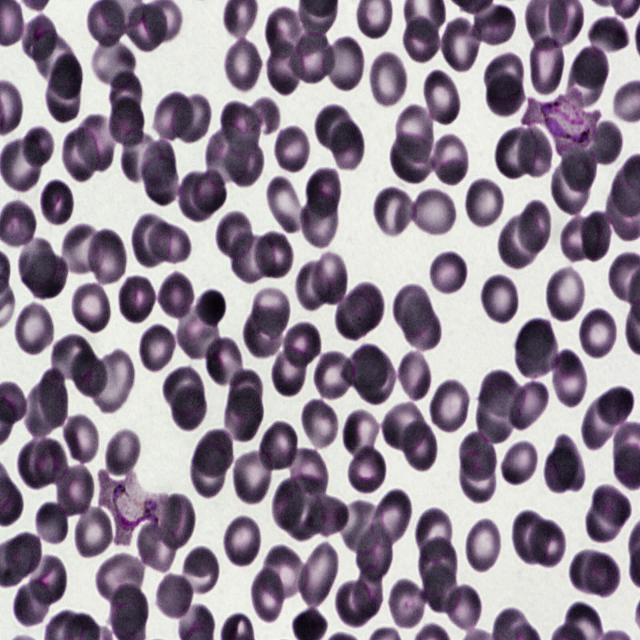red blood cell: (86, 347, 135, 416), (378, 396, 431, 455), (366, 488, 416, 550), (513, 316, 559, 381), (94, 551, 146, 608), (265, 5, 312, 68), (260, 542, 308, 603), (21, 551, 68, 613), (47, 332, 100, 386), (296, 540, 340, 605), (564, 46, 608, 110), (90, 36, 140, 90), (527, 31, 567, 98), (441, 13, 484, 74), (83, 226, 126, 287), (475, 385, 518, 446), (263, 37, 306, 98), (388, 135, 438, 186), (174, 307, 220, 362), (498, 213, 542, 270), (256, 419, 302, 473), (264, 174, 306, 233), (250, 562, 289, 625), (395, 421, 441, 474), (322, 35, 364, 93), (232, 448, 274, 506), (550, 160, 592, 218), (292, 28, 334, 86), (503, 379, 548, 433), (124, 0, 168, 55), (409, 188, 457, 238), (550, 347, 588, 410), (222, 388, 264, 445), (367, 51, 408, 109), (417, 534, 458, 592), (354, 346, 395, 404), (70, 504, 114, 558), (60, 222, 104, 276), (429, 378, 471, 434), (579, 306, 621, 362), (478, 369, 526, 418), (340, 342, 387, 392), (372, 186, 416, 239), (546, 265, 586, 323), (223, 36, 263, 94), (271, 340, 311, 398), (355, 525, 395, 583), (428, 132, 470, 187), (207, 124, 246, 183), (492, 126, 538, 176), (338, 500, 383, 551), (414, 507, 454, 564), (299, 194, 339, 251), (241, 308, 284, 361), (250, 228, 293, 281), (1, 138, 43, 192), (421, 69, 460, 127), (581, 394, 620, 452), (21, 381, 62, 436), (14, 301, 54, 357), (54, 462, 94, 518), (313, 351, 356, 403), (71, 281, 112, 335), (584, 14, 632, 60), (472, 0, 520, 46), (212, 208, 252, 263), (402, 12, 442, 67), (340, 407, 380, 462), (230, 234, 274, 284), (483, 50, 524, 103), (464, 517, 502, 574), (222, 514, 262, 568), (464, 176, 504, 230), (387, 577, 427, 631), (283, 318, 323, 372), (222, 100, 262, 154), (162, 364, 206, 413), (300, 396, 339, 451), (153, 91, 195, 142), (34, 33, 76, 84), (110, 581, 150, 634), (396, 105, 433, 162), (105, 67, 144, 121), (79, 116, 118, 170), (272, 126, 314, 176), (16, 437, 54, 492), (516, 196, 552, 254), (346, 444, 386, 496), (252, 284, 292, 336), (512, 510, 549, 566), (2, 530, 44, 579), (480, 272, 518, 326), (282, 490, 323, 540), (102, 427, 141, 479), (158, 496, 197, 548), (440, 585, 482, 633), (12, 575, 50, 628), (122, 130, 160, 183), (288, 447, 329, 496), (314, 101, 354, 151), (109, 96, 149, 146), (457, 454, 497, 504), (158, 268, 195, 322), (62, 127, 99, 181), (393, 283, 432, 334), (192, 429, 234, 476), (553, 433, 587, 491), (334, 294, 374, 343), (225, 139, 265, 188), (62, 414, 98, 468), (312, 248, 348, 302), (138, 322, 176, 373), (118, 274, 156, 325), (18, 236, 56, 287), (180, 173, 218, 224), (396, 349, 432, 402), (190, 165, 228, 215), (500, 437, 538, 487), (156, 572, 194, 622), (139, 522, 177, 572), (134, 213, 169, 267), (207, 335, 244, 386), (335, 578, 372, 629), (26, 254, 67, 300), (190, 444, 226, 496), (72, 348, 110, 397), (584, 498, 624, 544), (272, 478, 306, 532), (44, 71, 82, 119), (519, 122, 552, 177), (429, 250, 466, 299), (33, 500, 70, 549), (143, 156, 180, 205), (329, 122, 366, 171), (307, 496, 350, 538), (569, 548, 610, 592), (348, 279, 382, 332), (460, 432, 496, 482), (486, 71, 525, 117), (560, 216, 598, 263), (404, 301, 442, 348), (296, 260, 329, 314), (19, 14, 56, 62), (528, 519, 565, 567), (351, 566, 385, 618), (590, 484, 632, 526), (228, 367, 263, 417), (174, 96, 212, 142), (146, 224, 192, 262), (305, 167, 342, 214), (543, 446, 577, 497), (424, 562, 458, 613), (140, 141, 176, 189), (40, 178, 74, 228), (180, 549, 216, 595), (40, 368, 68, 427), (88, 0, 124, 45), (589, 119, 623, 166), (48, 53, 82, 100), (580, 210, 611, 260), (584, 555, 620, 597), (32, 439, 66, 483), (597, 383, 633, 424), (560, 152, 596, 192), (173, 386, 206, 429), (20, 125, 53, 167), (197, 289, 226, 325)
trophozoite: (524, 89, 602, 157), (96, 472, 167, 544)
